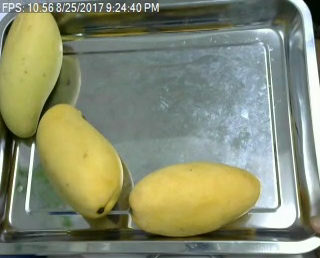Mango: (36, 101, 124, 222), (125, 161, 262, 237), (0, 3, 65, 140)
